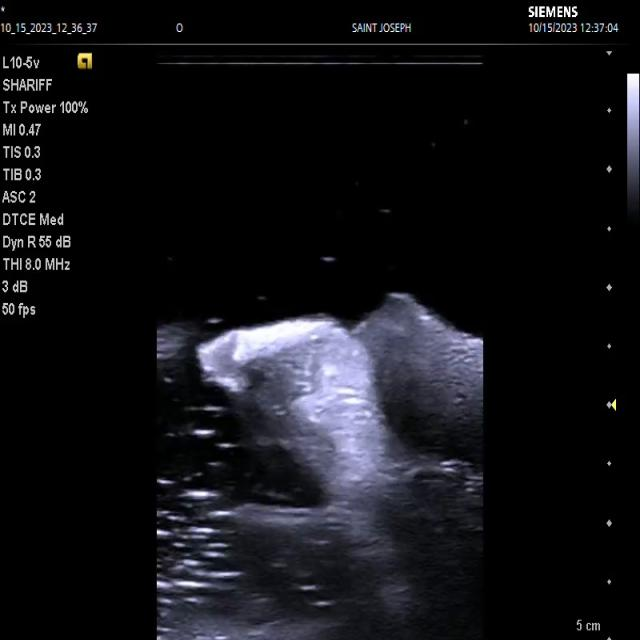tissue: (199, 314, 413, 502)
